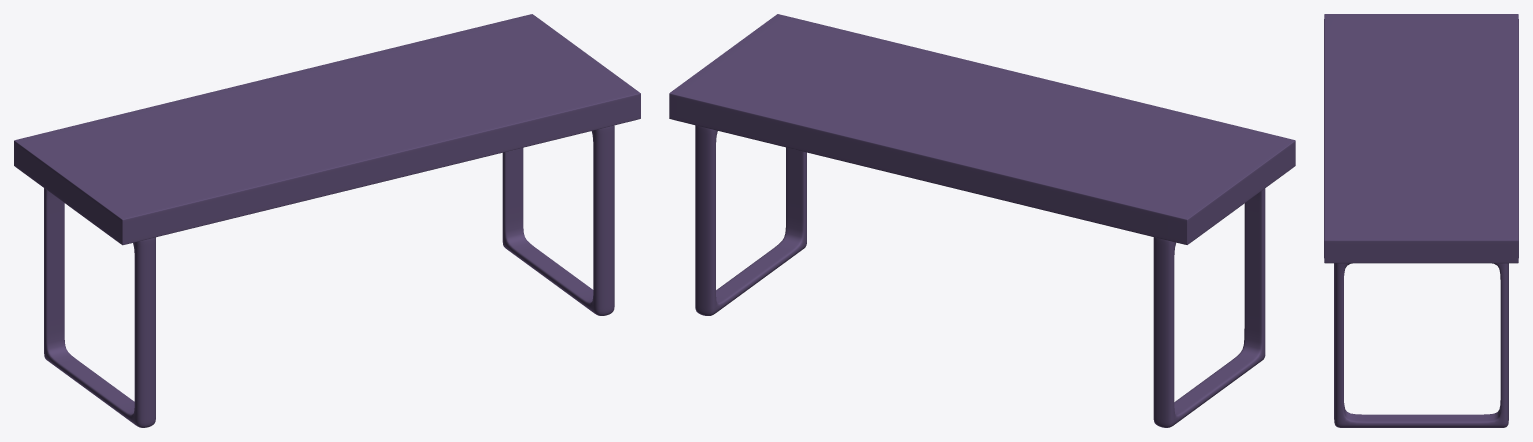
The model's file is desk.fbx.
3 renders of one model, left to right at view 1: azimuth 30°, elevation 25°; view 2: azimuth 150°, elevation 25°; view 3: azimuth 270°, elevation 25°, orthographic. The views are drawn at different scales.
Parts seen in each view (by area): view 1: desk; view 2: desk; view 3: desk.
Boxes of the visible parts, x1,y1,x2,y2 form: desk: (14,14,640,427); desk: (669,14,1295,427); desk: (1324,14,1518,427).
Bounding box in the file's own units: 33.88 × 13.82 × 12.31.
